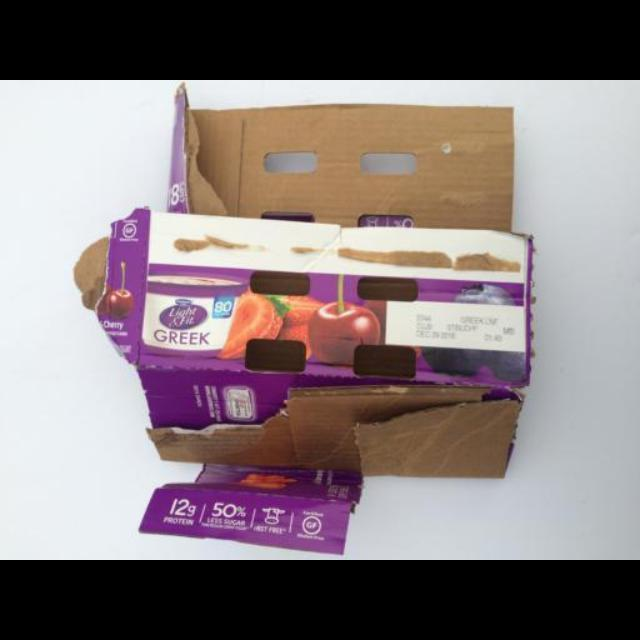papelão: (75, 102, 531, 554)
